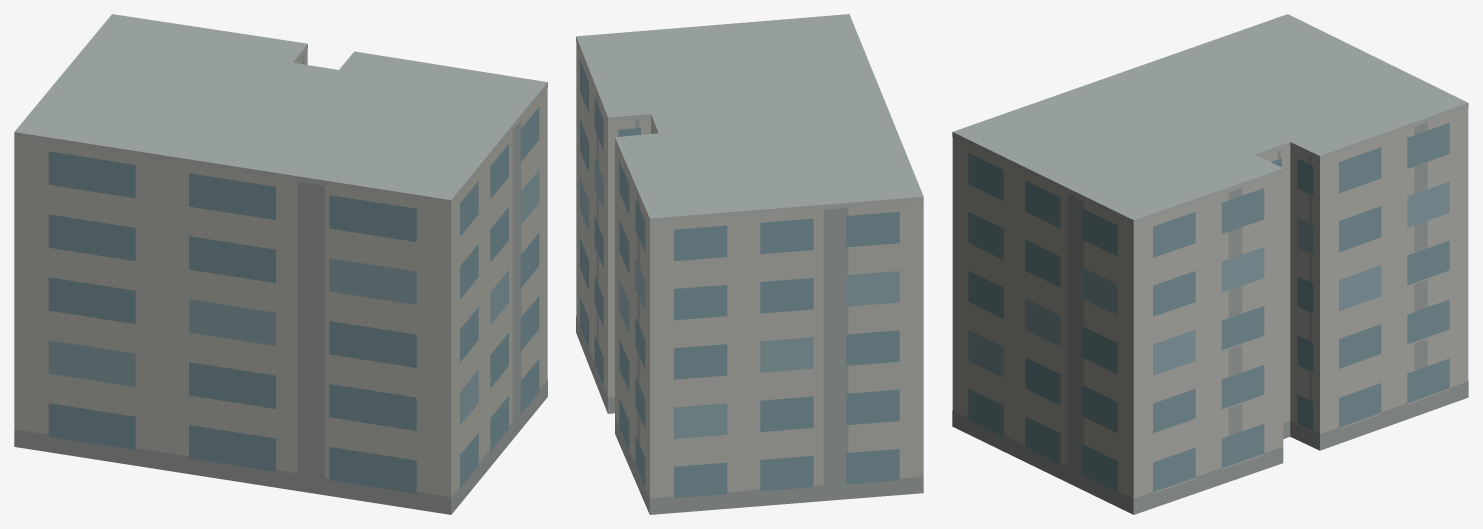
The model's file is survey-upis-32535301.glb.
3 views of the same model, side by side, from view 1: azimuth 30°, elevation 25°; view 2: azimuth 150°, elevation 25°; view 3: azimuth 270°, elevation 25° (orthographic). The views are drawn at different scales.
Visible parts, largest first — view 1: survey-upis-32535301.tmp; view 2: survey-upis-32535301.tmp; view 3: survey-upis-32535301.tmp.
Part boxes in pixels (bbox=[...]): survey-upis-32535301.tmp: bbox=[14, 14, 547, 514]; survey-upis-32535301.tmp: bbox=[576, 14, 923, 514]; survey-upis-32535301.tmp: bbox=[952, 14, 1468, 514].
Size of the model in its own units: 21.47 by 14.3 by 22.7.
